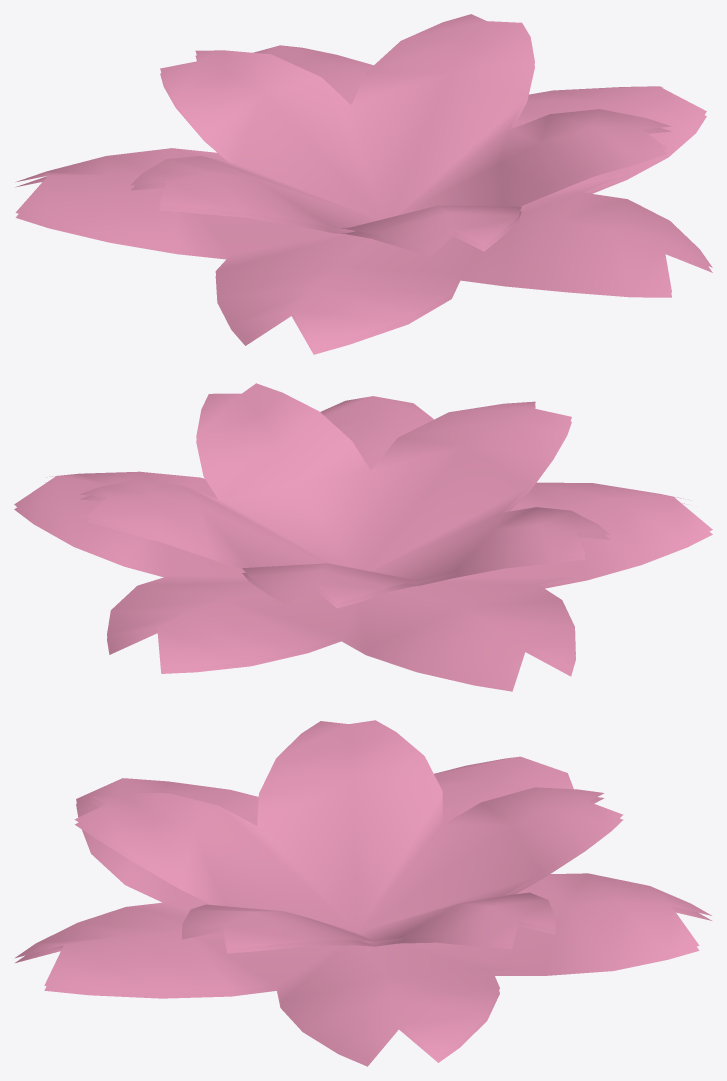
File: petal_hat (2).fbx
3 views of the same model, one above another, from view 1: azimuth 30°, elevation 25°; view 2: azimuth 150°, elevation 25°; view 3: azimuth 270°, elevation 25° (orthographic). The views are drawn at different scales.
Visible parts, largest first — view 1: petal_hat; view 2: petal_hat; view 3: petal_hat.
Part boxes in pixels (left/top/right/bottom): petal_hat: left=15, top=14, right=712, bottom=354; petal_hat: left=14, top=383, right=712, bottom=691; petal_hat: left=14, top=720, right=711, bottom=1066.
Size of the model in its own units: 23.49 by 3.82 by 22.88.
